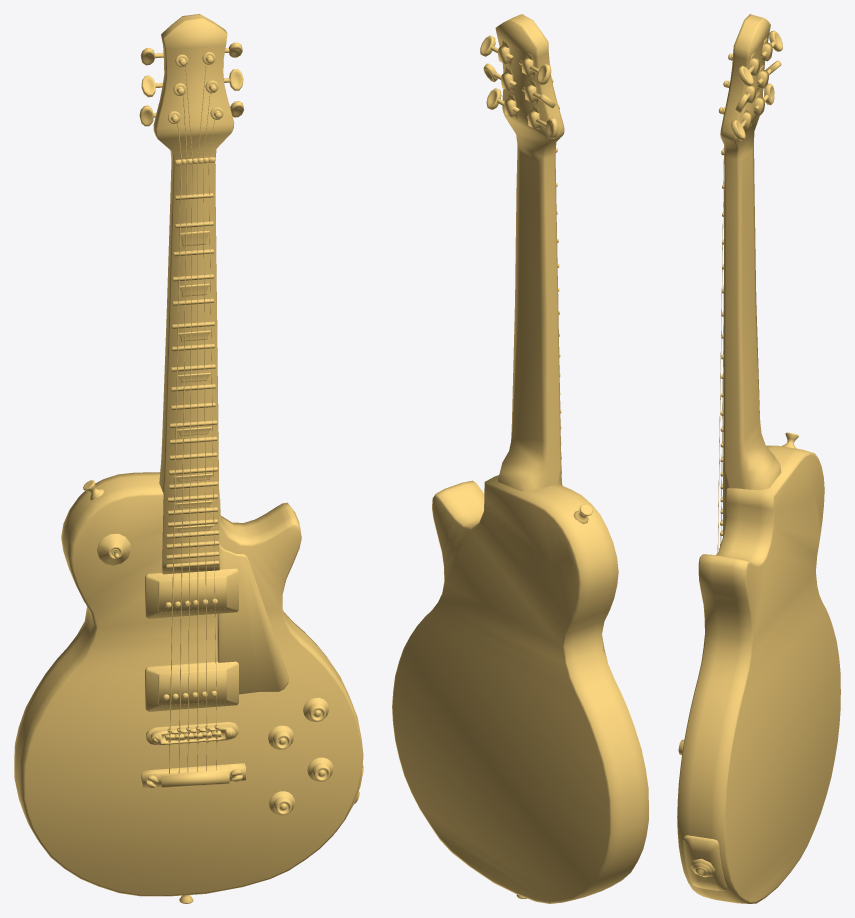
File: skull.glb
3 renders of one model, left to right at view 1: azimuth 30°, elevation 25°; view 2: azimuth 150°, elevation 25°; view 3: azimuth 270°, elevation 25°, orthographic.
Visible parts, largest first — view 1: Gitarre higher test15_01 - Default_0, Gitarre higher test12, Gitarre higher test04_01 - Default_0, Gitarre higher test16, Gitarre higher test22, Gitarre higher test05_01 - Default_0, Gitarre higher test25_01 - Default_0, Gitarre higher test07, Gitarre higher test03_01 - Default_0, Gitarre higher test11_01 - Default_0, Gitarre higher test24_01 - Default_0, Gitarre higher test06; view 2: Gitarre higher test15_01 - Default_0, Gitarre higher test12, Gitarre higher test11_01 - Default_0, Gitarre higher test02; view 3: Gitarre higher test15_01 - Default_0, Gitarre higher test12, Gitarre higher test17_01 - Default_0, Gitarre higher test11_01 - Default_0, Gitarre higher test02, Gitarre higher test22.
Boxes of the visible parts, x1,y1,x2,y2 form: Gitarre higher test15_01 - Default_0: (14,472,363,896); Gitarre higher test12: (153,14,234,574); Gitarre higher test04_01 - Default_0: (145,568,238,711); Gitarre higher test16: (217,545,288,694); Gitarre higher test22: (169,61,217,773); Gitarre higher test05_01 - Default_0: (166,193,219,568); Gitarre higher test25_01 - Default_0: (173,230,214,532); Gitarre higher test07: (268,697,333,815); Gitarre higher test03_01 - Default_0: (141,763,245,788); Gitarre higher test11_01 - Default_0: (139,42,243,126); Gitarre higher test24_01 - Default_0: (146,721,238,744); Gitarre higher test06: (97,533,130,565); Gitarre higher test15_01 - Default_0: (392,475,648,903); Gitarre higher test12: (495,14,564,491); Gitarre higher test11_01 - Default_0: (480,35,558,139); Gitarre higher test02: (498,40,541,130); Gitarre higher test15_01 - Default_0: (677,445,840,903); Gitarre higher test12: (720,14,781,536); Gitarre higher test17_01 - Default_0: (683,835,727,890); Gitarre higher test11_01 - Default_0: (731,30,782,140); Gitarre higher test02: (741,37,772,129); Gitarre higher test22: (717,155,724,552).
Bounding box in the file's own units: 0.35 × 1 × 0.1691.
